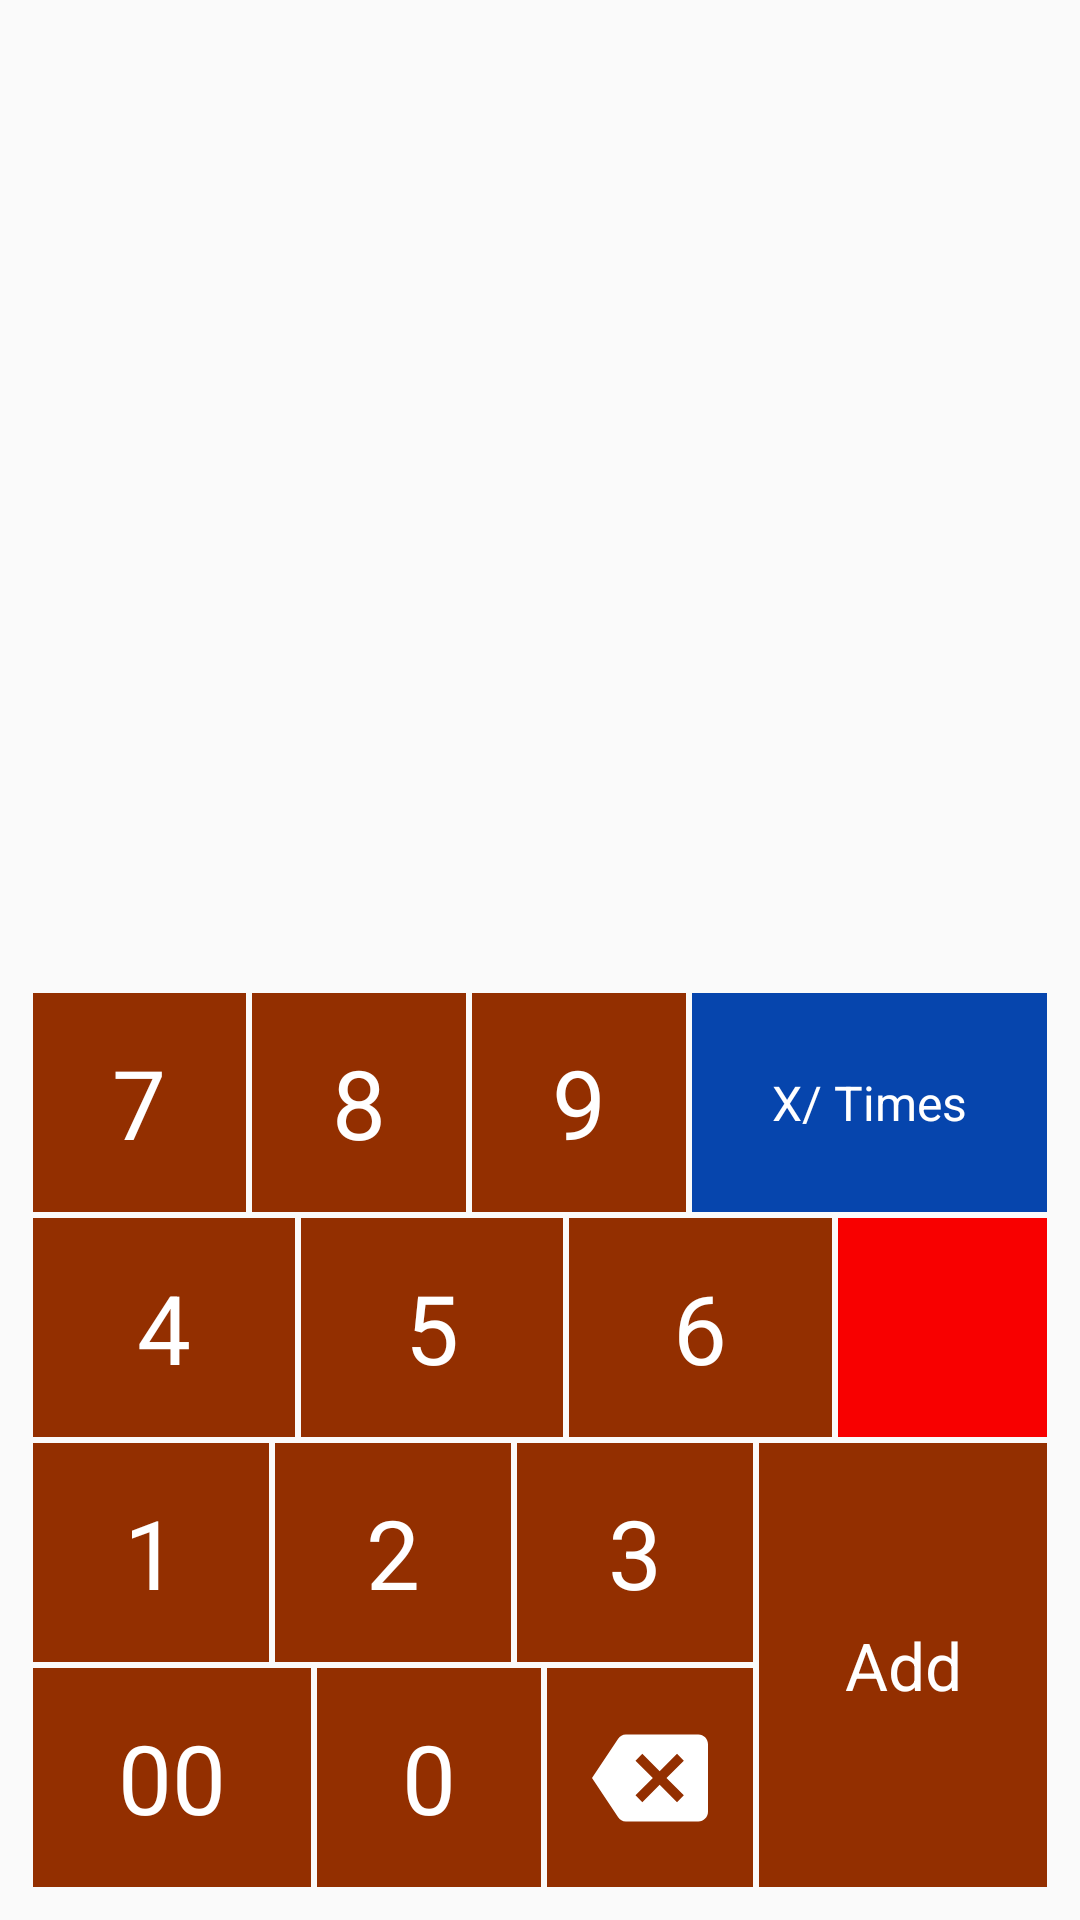

Point at icon controls on the screen. Image size 1080px x 1920px, points as (x,y).
backspace: (650,1777)
